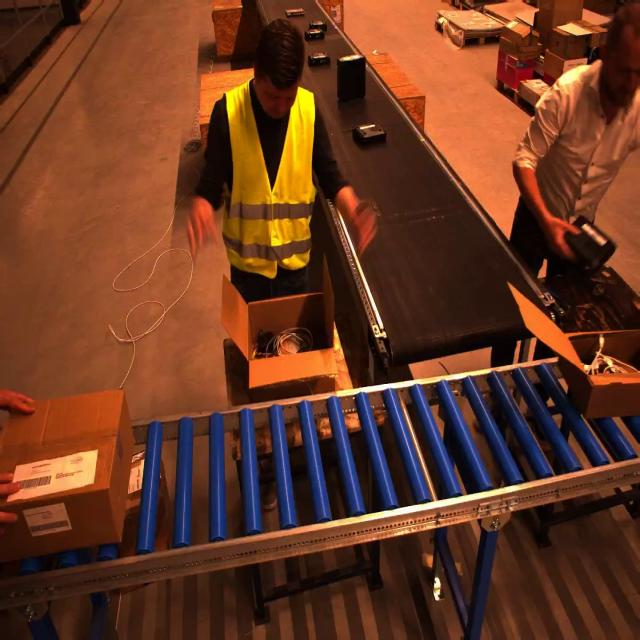box: (1, 391, 135, 560), (504, 296, 640, 416), (222, 258, 338, 394)
product: (340, 59, 376, 120), (336, 54, 366, 103), (352, 123, 386, 144), (308, 52, 331, 66), (304, 28, 325, 41), (308, 20, 326, 32), (285, 8, 304, 17)
